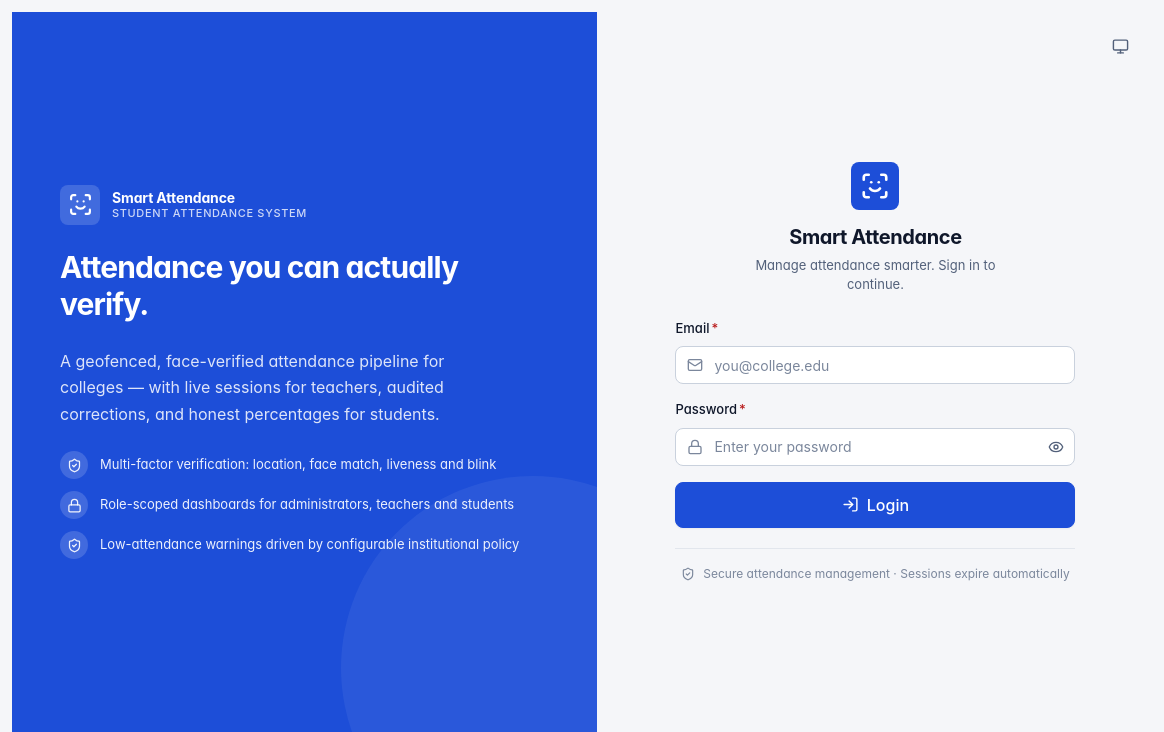
Test: LoginPage › returns the user to the page they were bounced from
The image size is (1164, 732).
Type "admin@ssams.dev" into the field labelled "Email*" at (876, 365), box 676,346 -> 1076,384
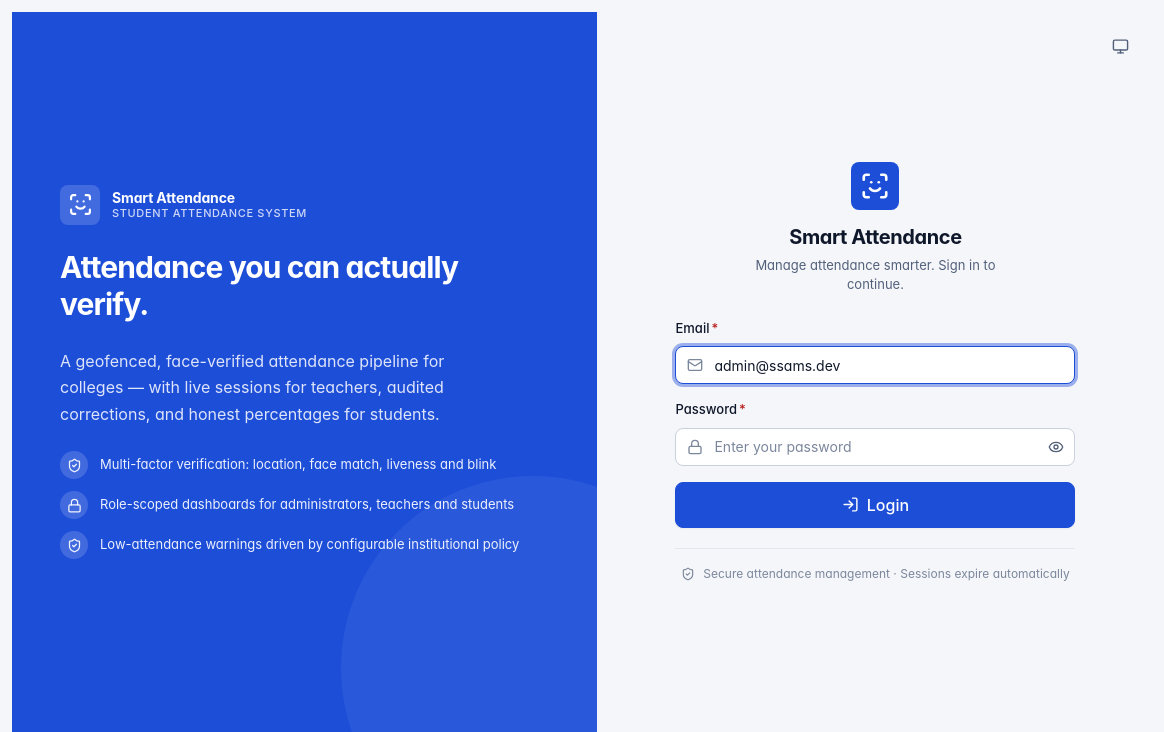
Type "DevPass#2026" into the password field labelled "Password*" at (876, 446), box 676,428 -> 1076,466
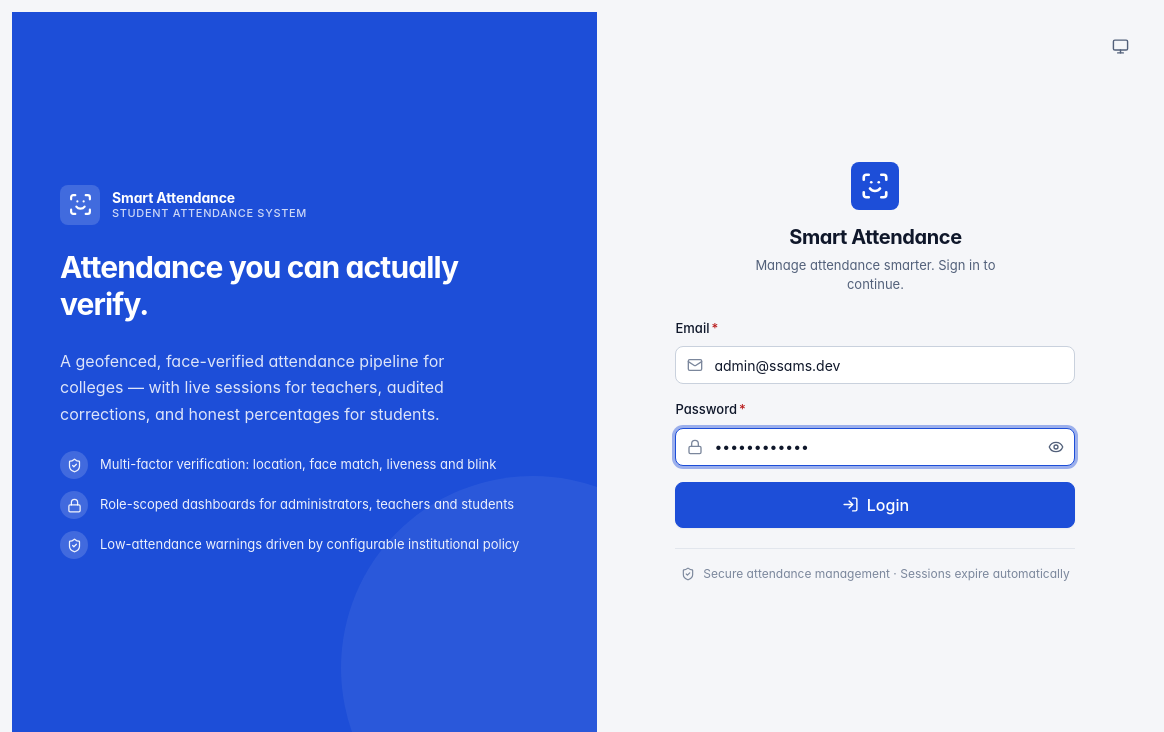
Click the button "Login" at (876, 504), box 676,482 -> 1076,528
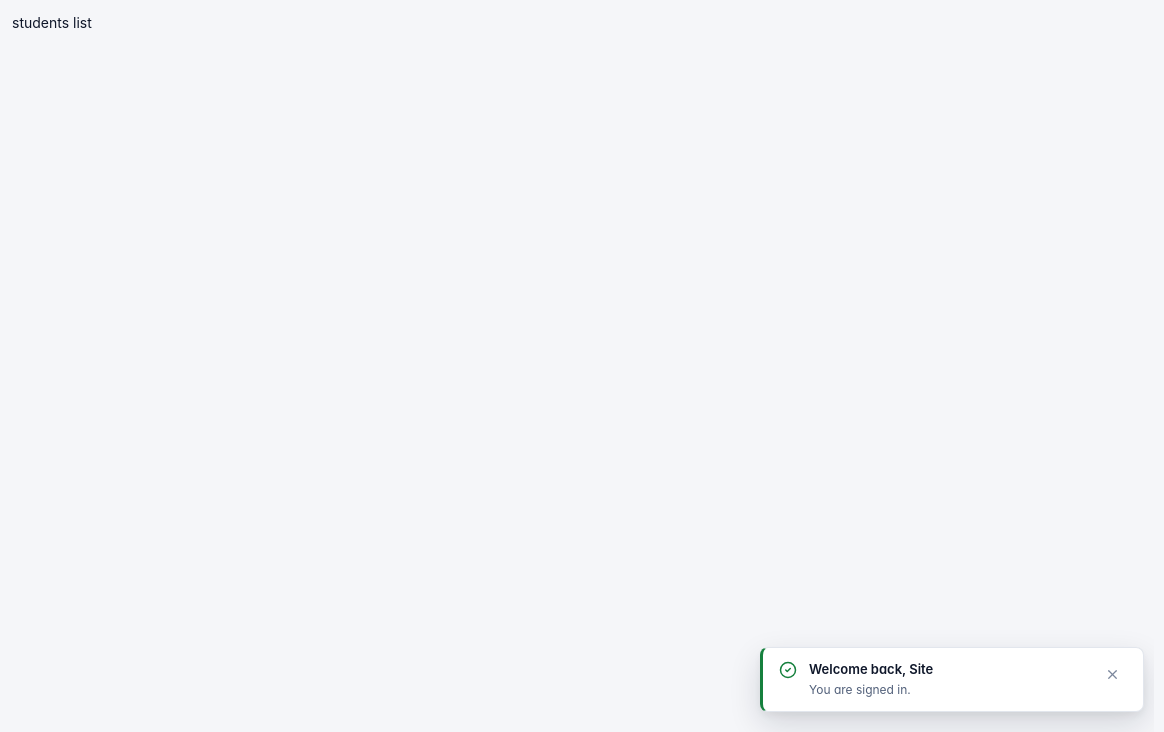
Result: the text "students list" is shown at 12,14 -> 92,31
